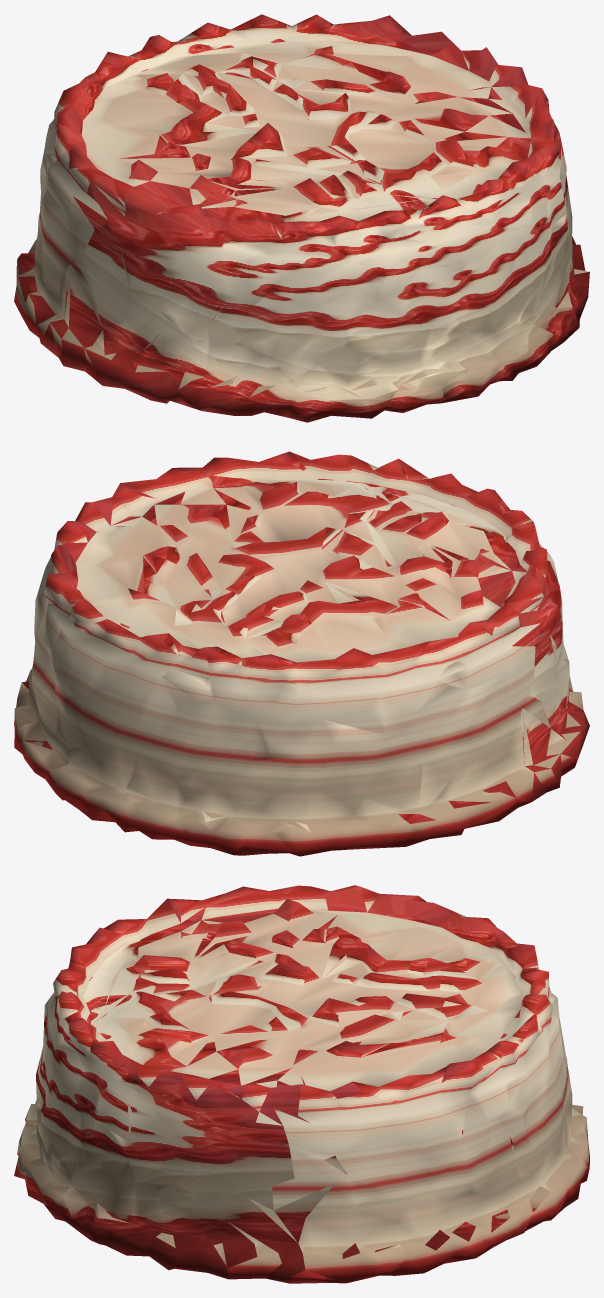
File: asset_red-icing.glb
3 views of the same model, one above another, from view 1: azimuth 30°, elevation 25°; view 2: azimuth 150°, elevation 25°; view 3: azimuth 270°, elevation 25° (orthographic).
Parts seen in each view (by area): view 1: geometry_0; view 2: geometry_0; view 3: geometry_0.
Boxes of the visible parts, x1,y1,x2,y2 form: geometry_0: [14, 14, 589, 422]; geometry_0: [14, 451, 589, 856]; geometry_0: [14, 885, 589, 1283].
Bounding box in the file's own units: 0.6945 × 0.25 × 0.6975.
Materials: 1 (1 with a texture image).
